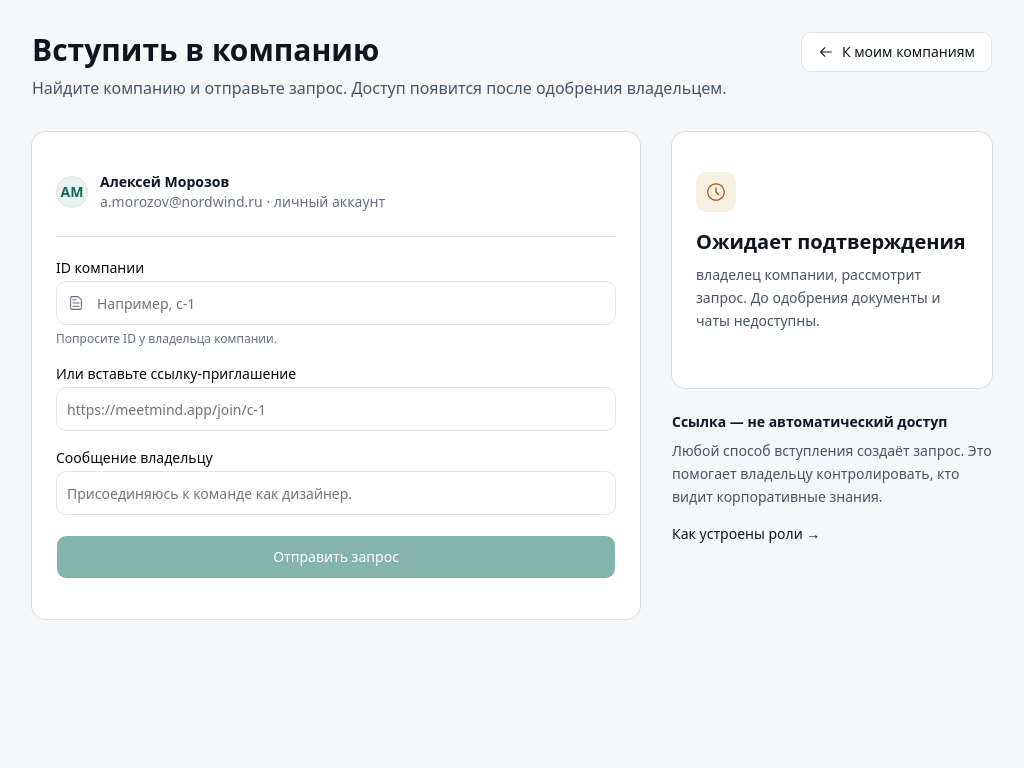
Test: JoinCompanyPage — интеграционные тесты › загружает информацию о компании после ввода её ID
The image size is (1024, 768).
Type "c-2" into the field labelled "ID компании" at {"x": 336, "y": 303}, box [56,281,616,325]
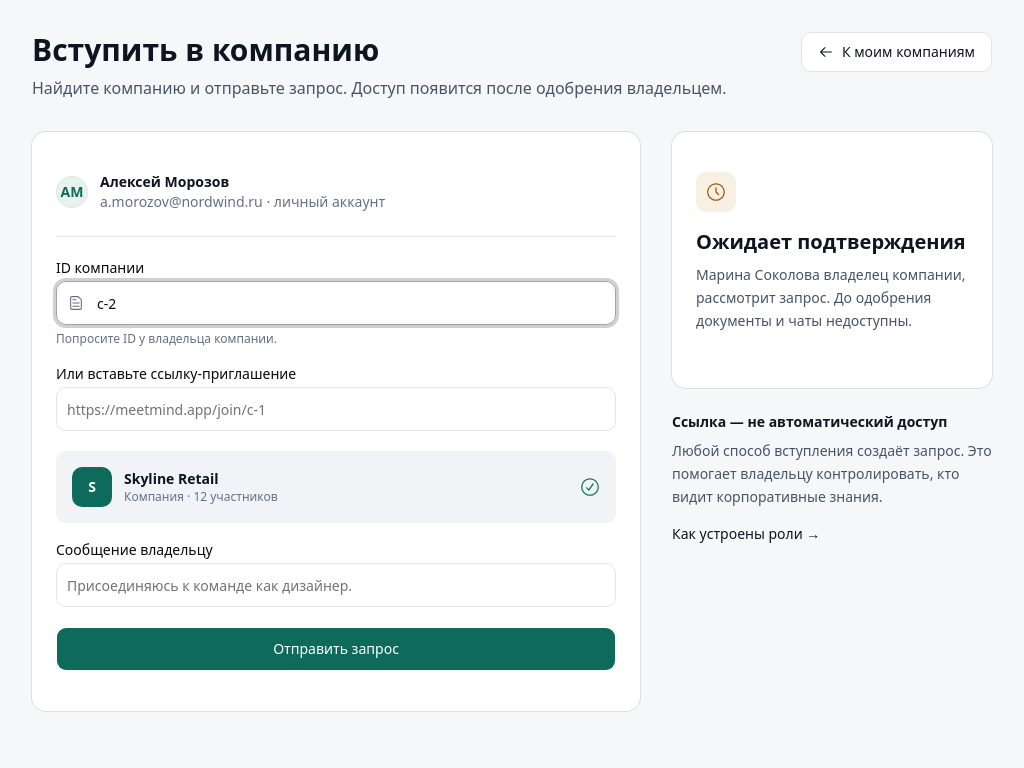
Check: the text "Skyline Retail" is shown, box [124,469,219,488]
Check: the button "Отправить запрос" is enabled, box [56,627,616,671]
